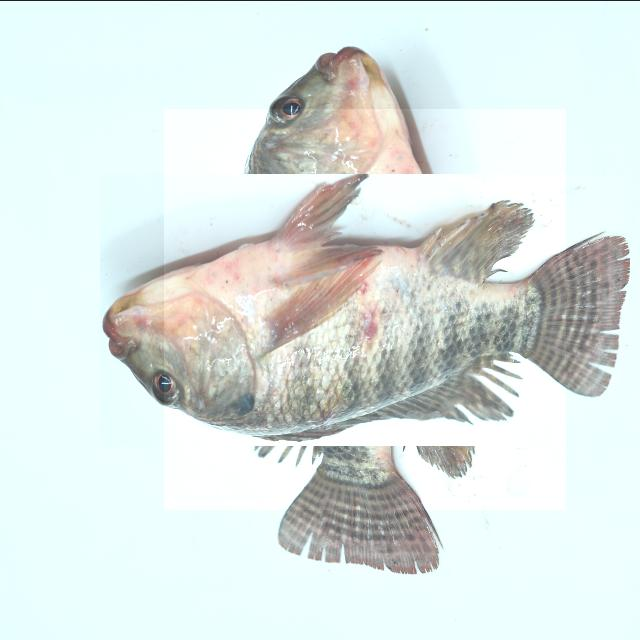Columnaris Disease: (164, 108, 566, 509)
